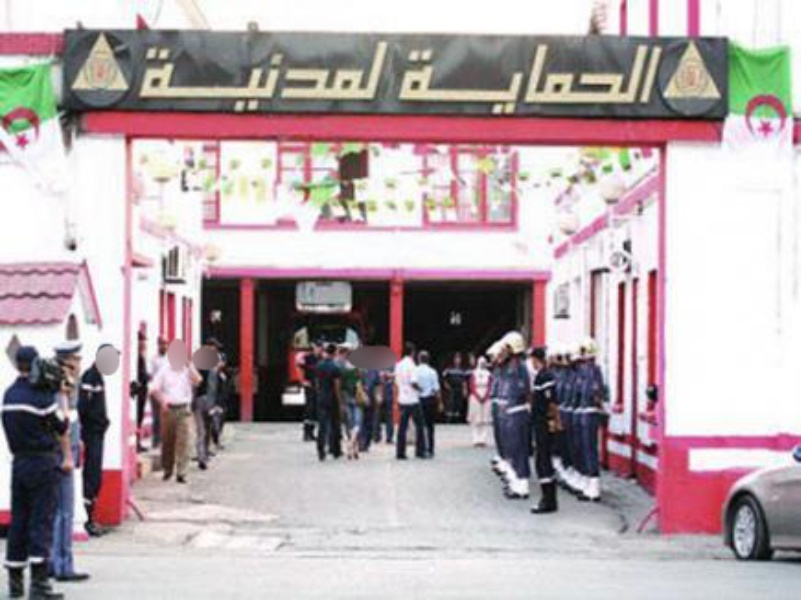text: (417, 39, 432, 116), (433, 39, 448, 116), (449, 39, 464, 116), (465, 39, 480, 116), (481, 39, 496, 116), (497, 39, 512, 116), (513, 39, 528, 116), (529, 39, 544, 116), (545, 39, 560, 116), (561, 39, 576, 116), (577, 39, 592, 116), (593, 39, 608, 116), (609, 39, 624, 116), (625, 39, 640, 116), (641, 39, 656, 116), (161, 39, 176, 115), (177, 39, 192, 115), (193, 39, 208, 115), (209, 39, 224, 115), (225, 39, 240, 115), (241, 39, 256, 115), (257, 39, 272, 115), (273, 39, 288, 115), (289, 39, 304, 115), (305, 39, 320, 115), (321, 39, 336, 115), (337, 39, 352, 115), (353, 39, 368, 115), (369, 39, 384, 115), (657, 39, 667, 116), (150, 39, 160, 115), (385, 39, 393, 115), (413, 39, 416, 116)
